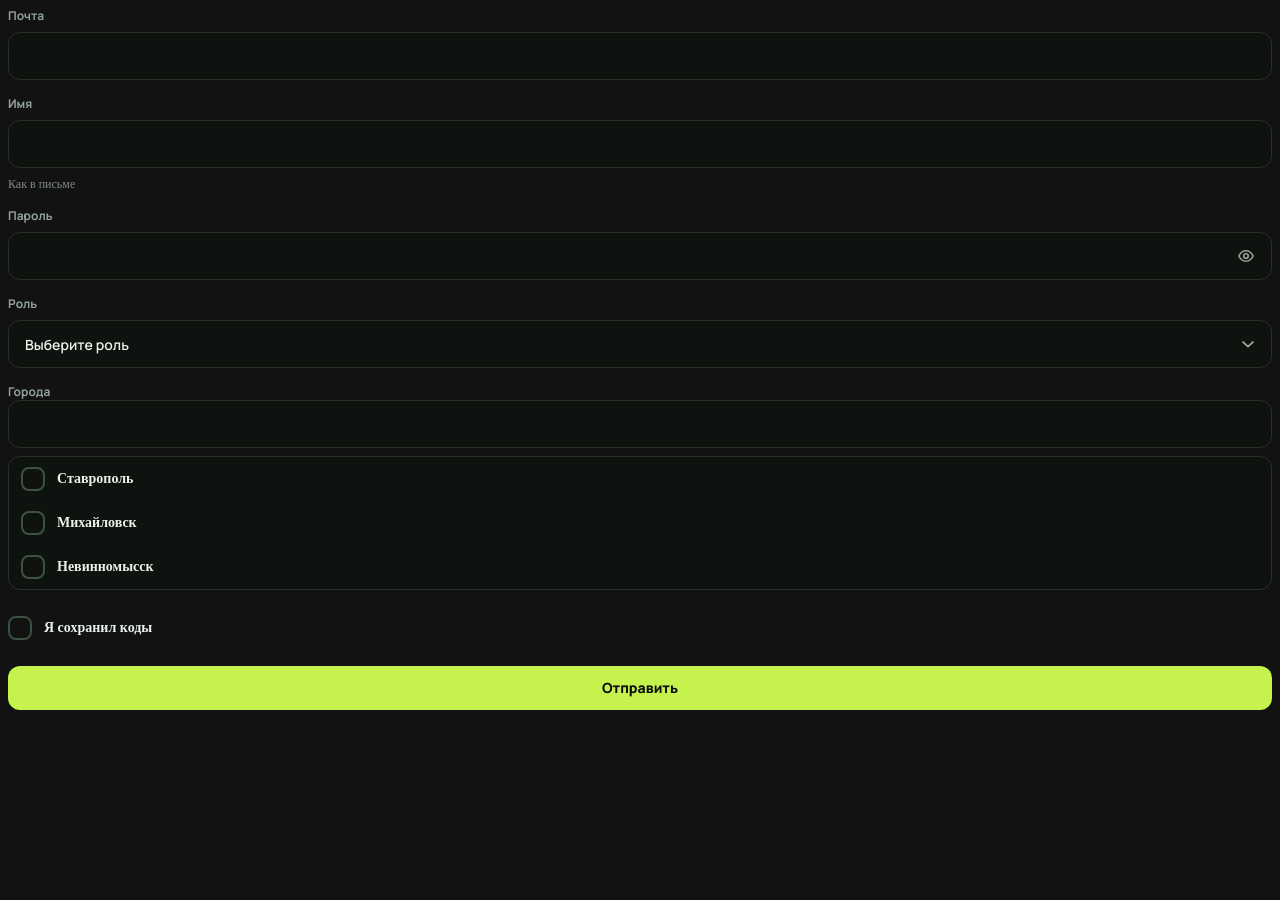
it: Form: ошибки сервера › код с текстом в локалях — его текст
Type "a@b.c" into the field labelled "Почта" at (640, 56), box [8,32,1272,80]
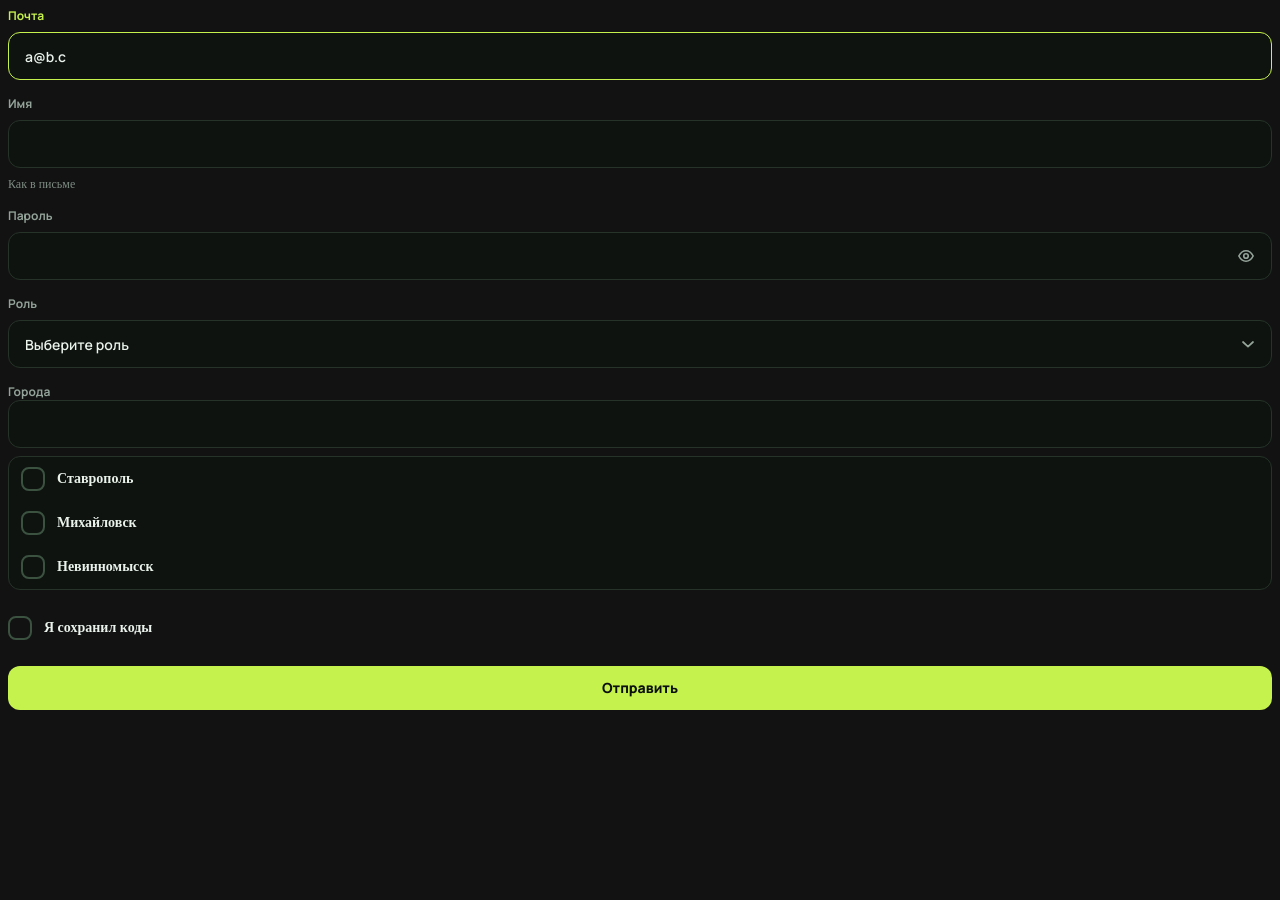
Click the button "Отправить" at (640, 688), box [8,666,1272,710]
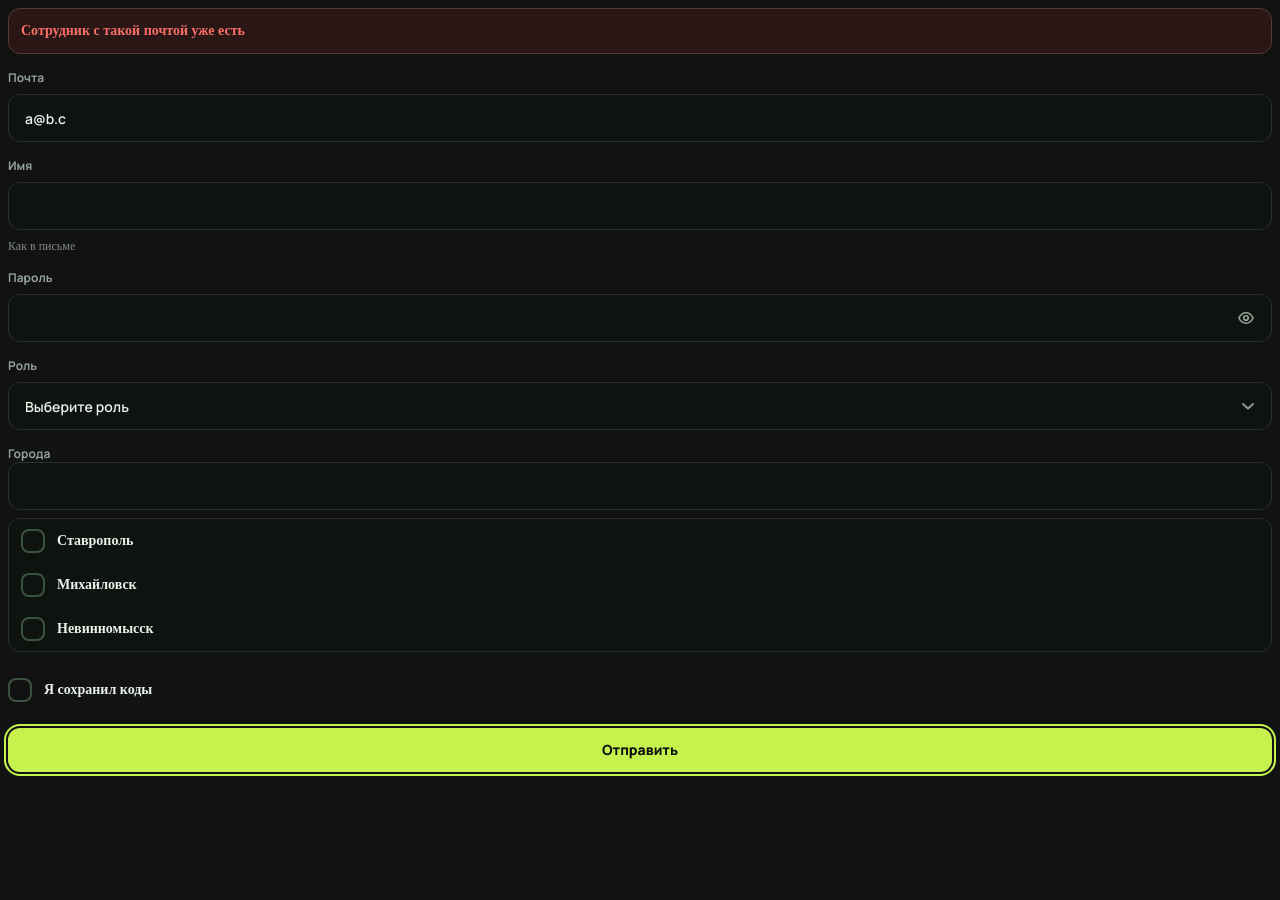
Expected: the message reads "Сотрудник с такой почтой уже есть", [21,23,245,38]
